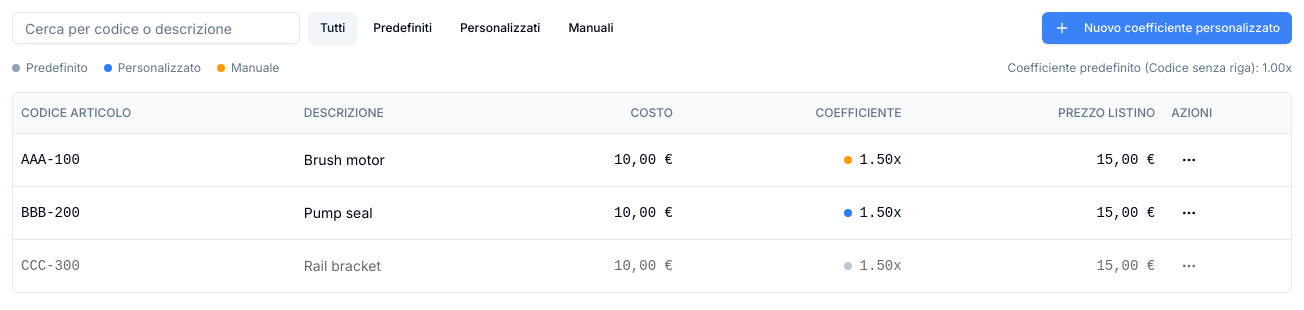
it: CoefficientsTable — client-side text filter › shows the empty state when nothing matches
Type "zzz-nope" into the field labelled "Cerca per codice o descrizione" at (156, 28), box left=12, top=12, right=300, bottom=44
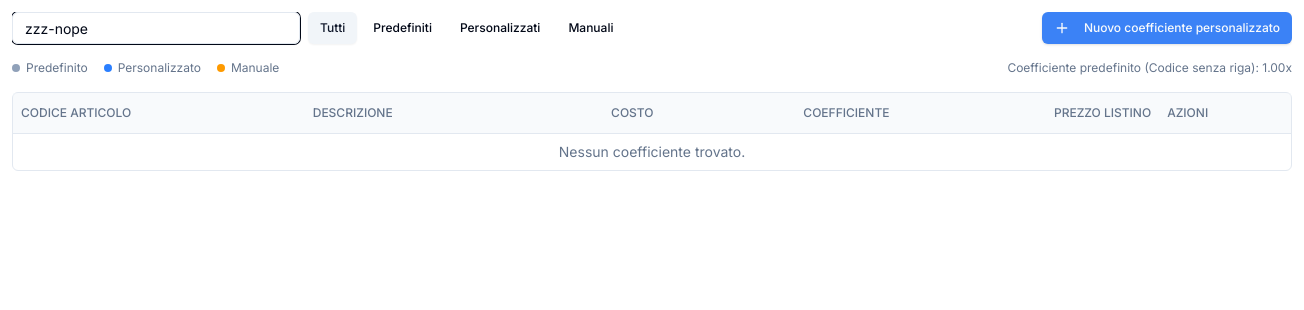
Expected: the text "Nessun coefficiente trovato." is shown, left=13, top=133, right=1291, bottom=170
Expected: the text "AAA-100" is gone
